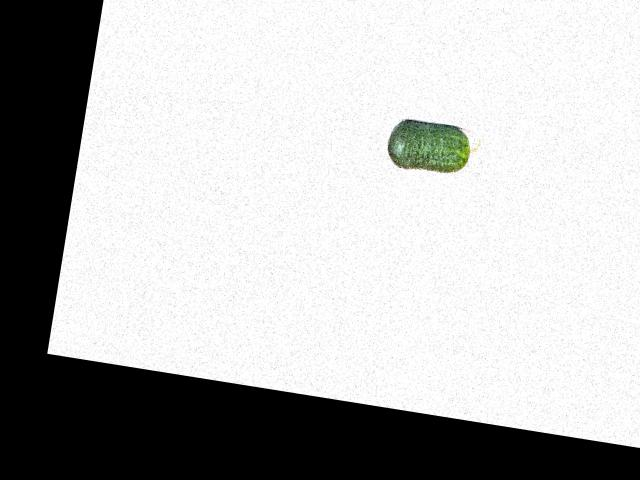cucumber: (385, 115, 483, 180)
